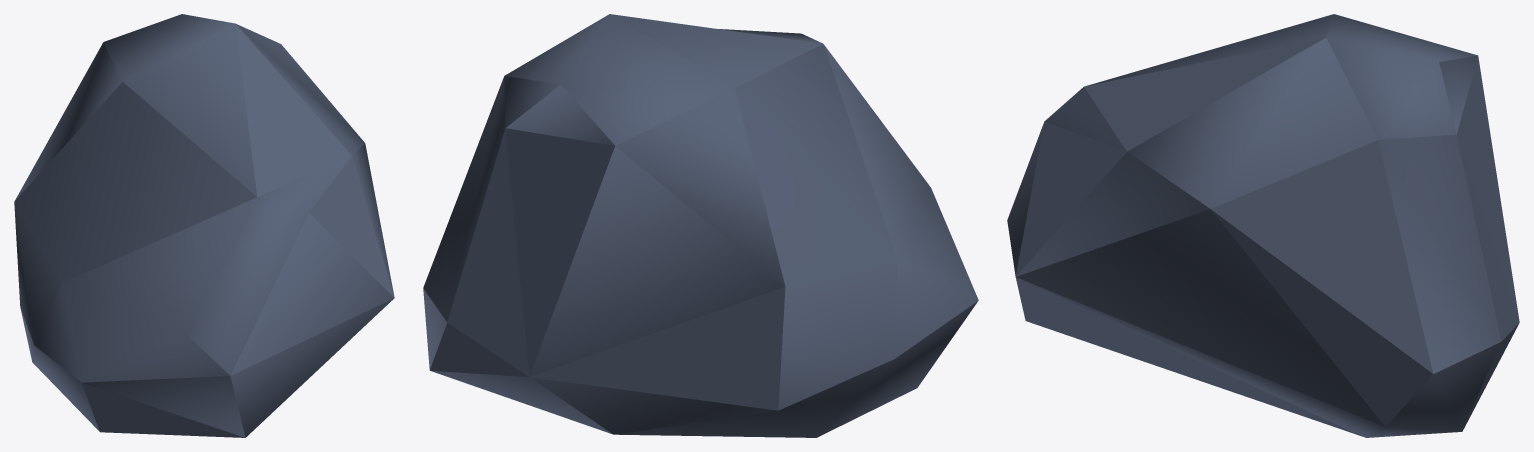
Rendered from rock5_col.FBX.
The picture shows the model from 3 angles, left to right: view 1: azimuth 30°, elevation 25°; view 2: azimuth 150°, elevation 25°; view 3: azimuth 270°, elevation 25°; orthographic projection. The views are drawn at different scales.
Parts seen in each view (by area): view 1: rock5_col; view 2: rock5_col; view 3: rock5_col.
Part boxes in pixels (<box>): rock5_col: <box>14,14,394,437</box>; rock5_col: <box>423,14,978,437</box>; rock5_col: <box>1007,14,1519,437</box>.
Bounding box in the file's own units: 236 × 205 × 253.
